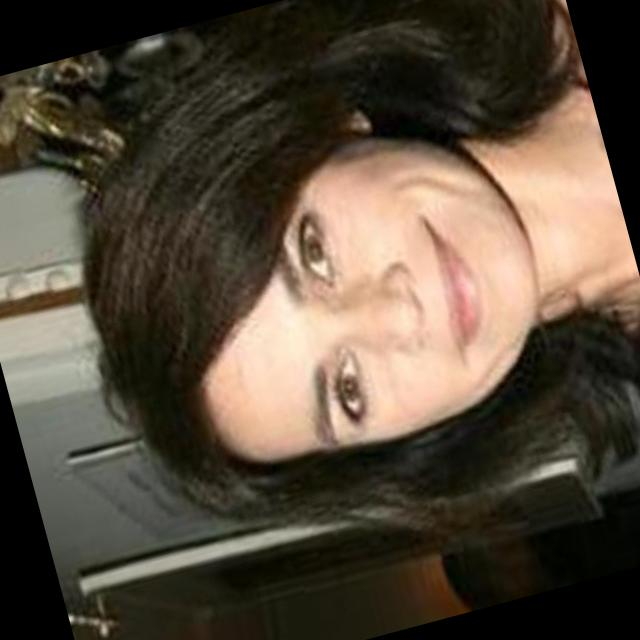bareface: (175, 132, 561, 488)
